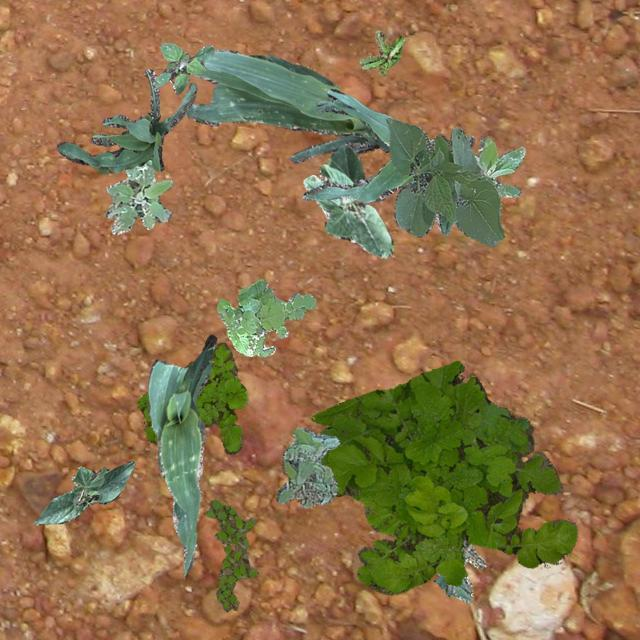crop: (301, 88, 474, 232), (184, 49, 390, 162), (147, 334, 215, 576), (386, 117, 504, 245), (56, 68, 196, 172), (303, 142, 392, 256), (32, 459, 134, 524)
weed: (310, 360, 576, 594), (136, 342, 246, 454), (216, 278, 314, 356), (205, 498, 258, 610), (428, 136, 524, 196), (274, 426, 338, 506), (105, 156, 172, 232), (434, 532, 484, 602), (152, 42, 214, 94), (358, 30, 404, 74)
